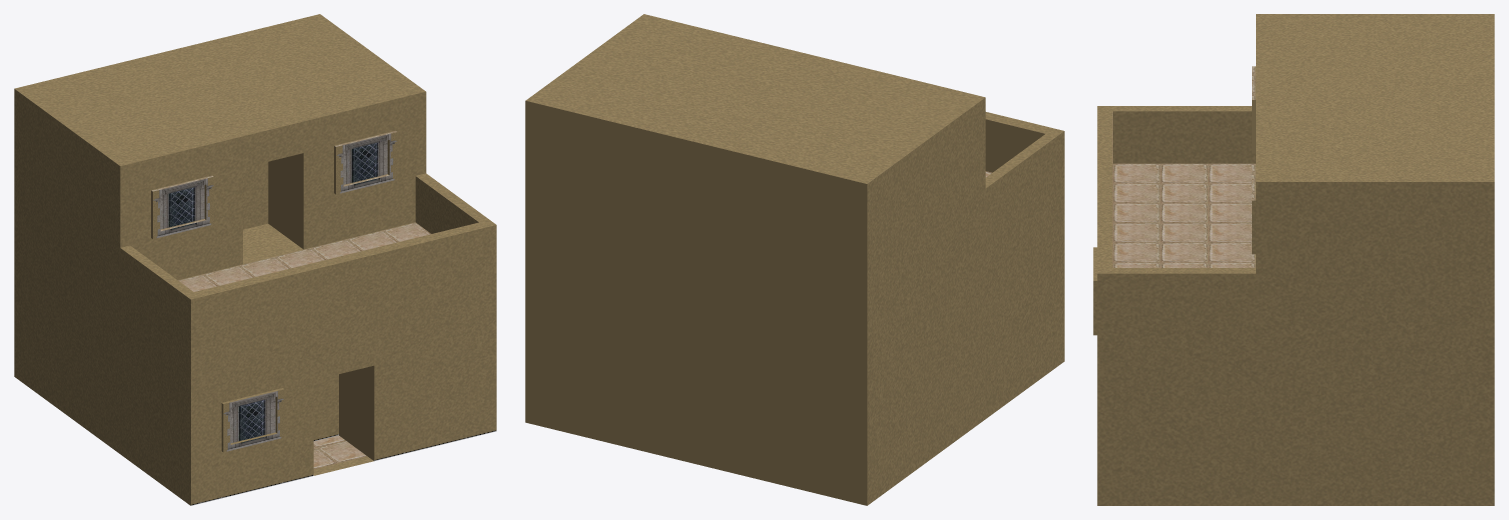
File: House_3.fbx
The picture shows the model from 3 angles, left to right: view 1: azimuth 30°, elevation 25°; view 2: azimuth 150°, elevation 25°; view 3: azimuth 270°, elevation 25°; orthographic projection. The views are drawn at different scales.
Visible parts, largest first — view 1: building2; view 2: building2; view 3: building2.
Part boxes in pixels (left/top/right/bottom): building2: left=14, top=14, right=496, bottom=505; building2: left=525, top=14, right=1064, bottom=505; building2: left=1093, top=14, right=1494, bottom=505.
Bounding box in the file's own units: 10 × 9 × 10.1.
1 material, 1 textured.
